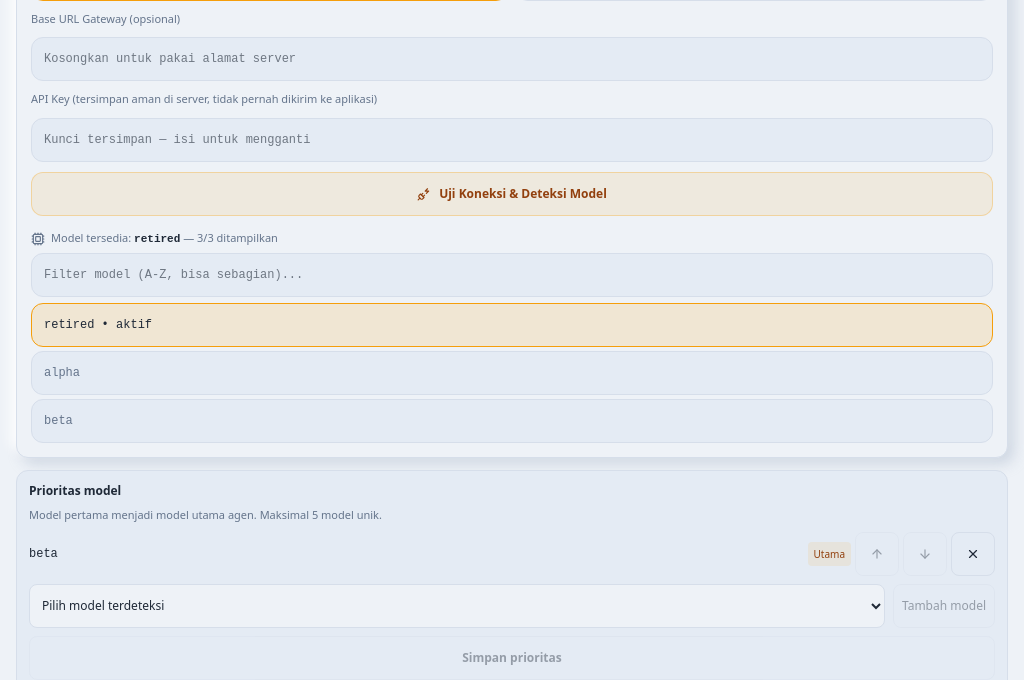
Test: panel daftar model › refreshes priority after the legacy picker and only offers detected models
(page scrolled)
Expected: the text "beta" is shown, [29,547,58,561]
Click the button "alpha".
click(62, 373)  # box [31,351,993,395]
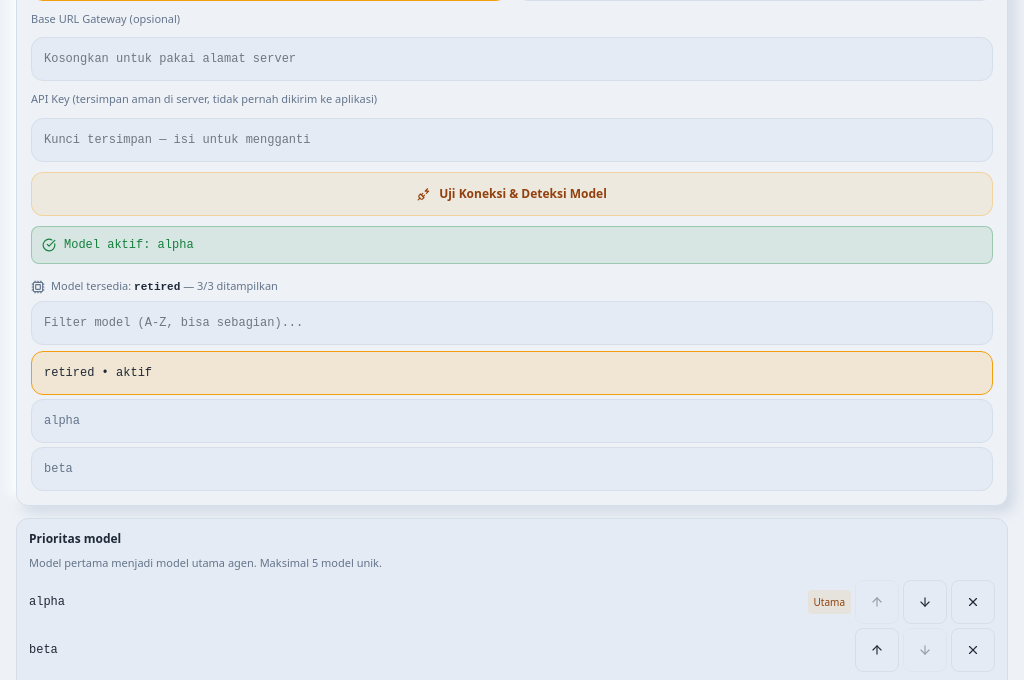
Expected: the text "alpha" is shown, [29,595,65,609]
